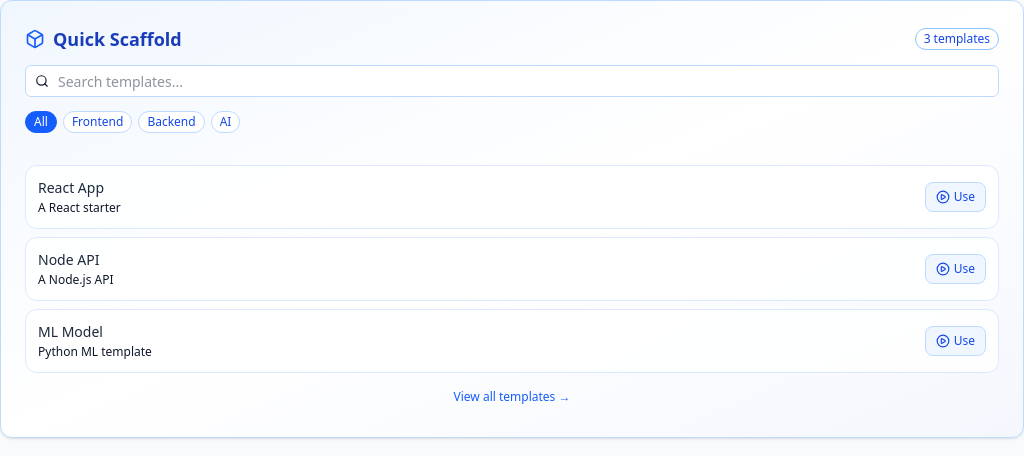
Test: QuickScaffoldWidget › filters templates by title when typing in the search box
Expected: the text "React App" is shown, [38,178,104,197]
In the field with placeholder "Search templates...": (512, 81) [25,65,999,97], type "ML"
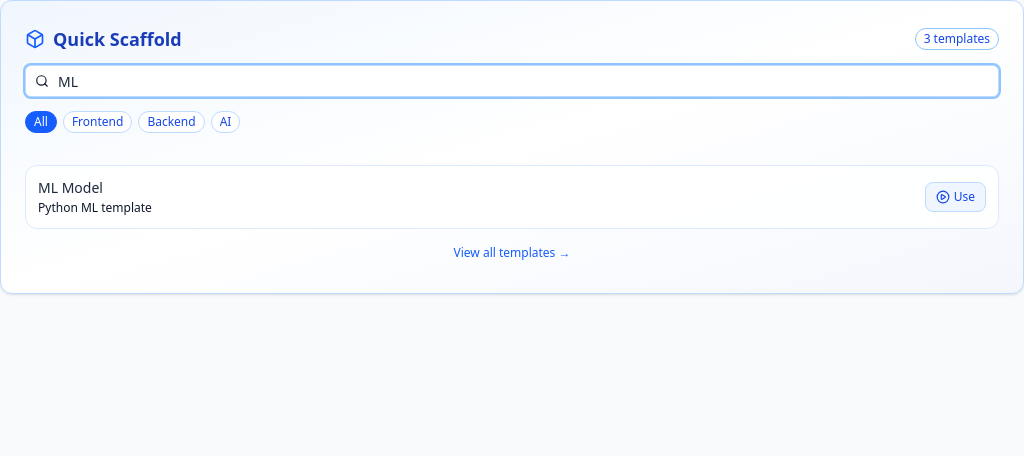
Expected: the text "ML Model" is shown, [38,178,103,197]
Result: the text "React App" is gone
